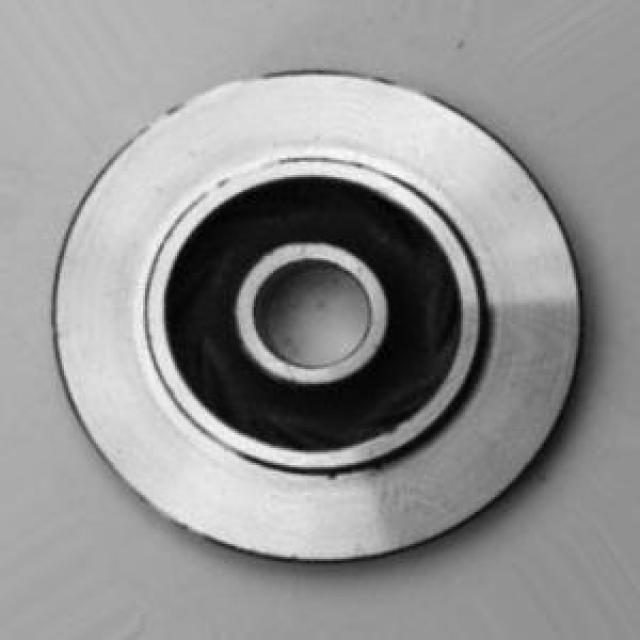Defect: (319, 466, 345, 486)
